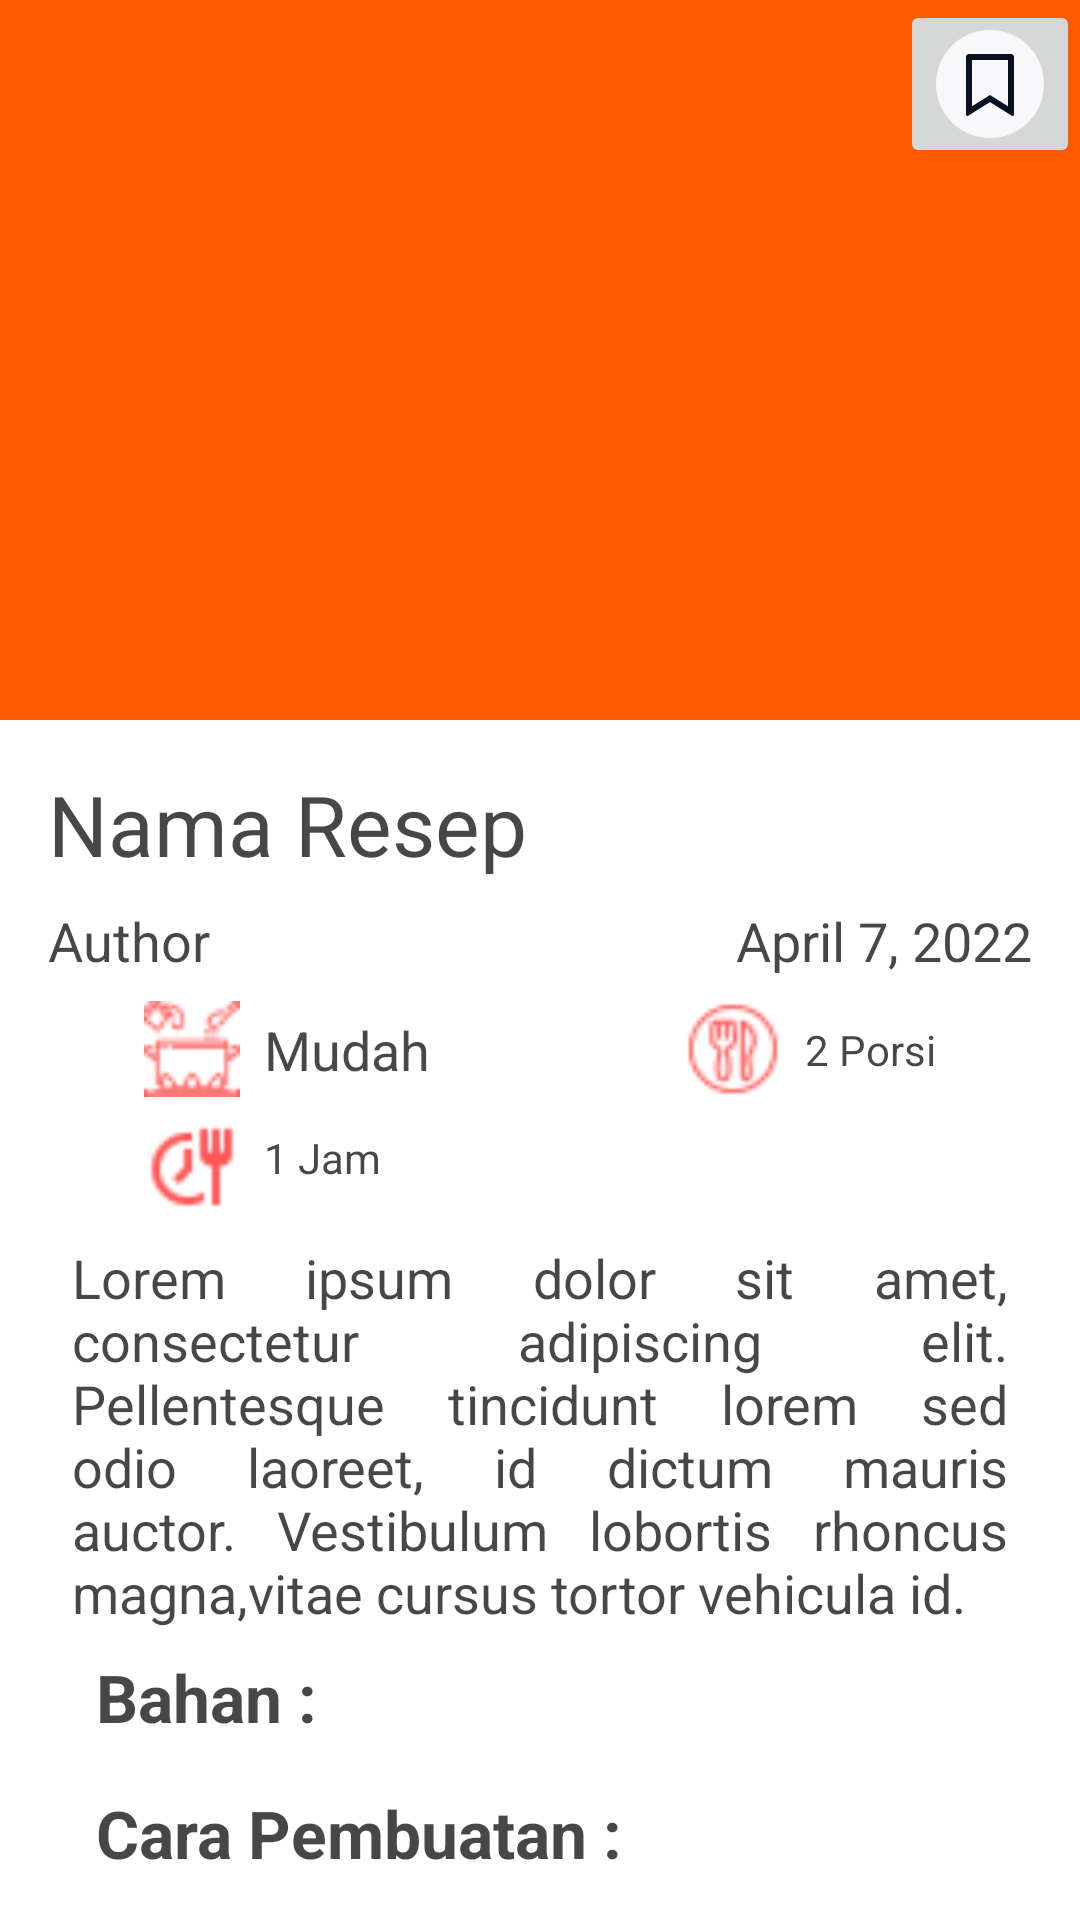

Named icons in this screenshot (1080px×1920px) and their centers, (x,y):
bookmark: (990,84)
portion: (733,1049)
